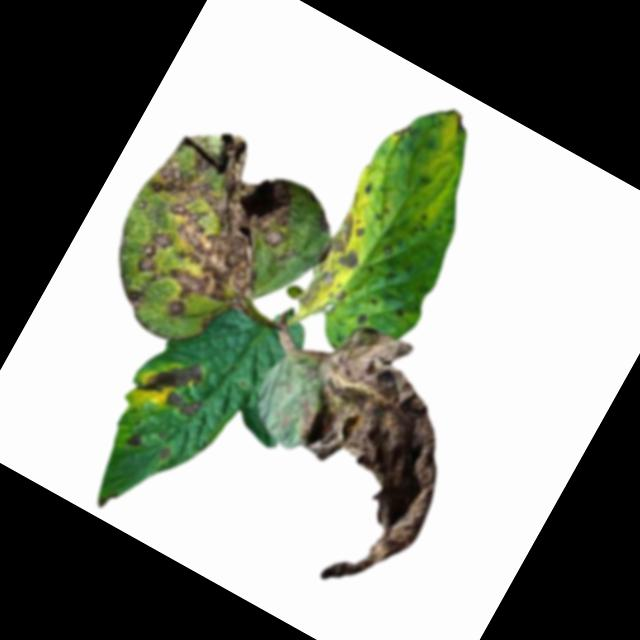Early_blight: (223, 307, 500, 613), (91, 102, 327, 352), (286, 201, 379, 326), (137, 345, 208, 415), (161, 386, 205, 426), (433, 103, 473, 138), (153, 443, 176, 468), (124, 429, 145, 451)
